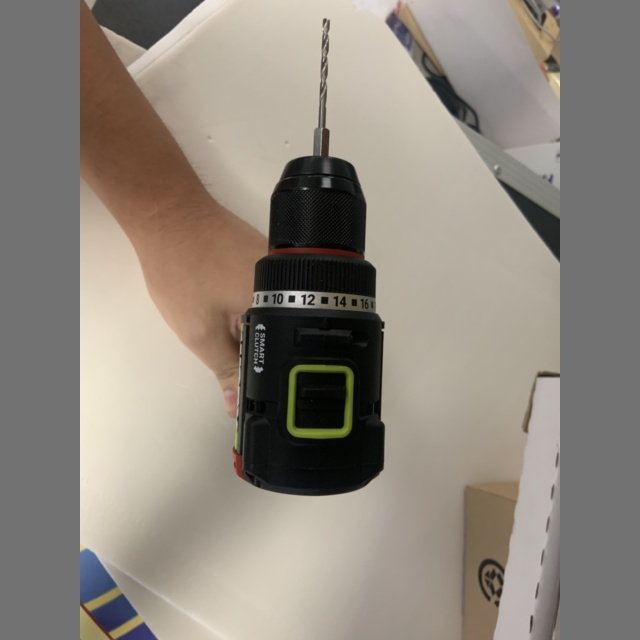drill: (233, 20, 384, 496)
